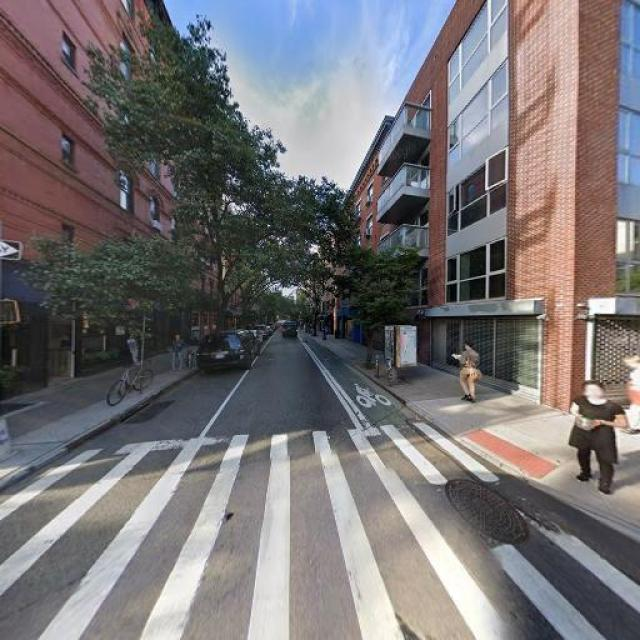Building: (333, 1, 640, 419), (1, 1, 220, 399)
